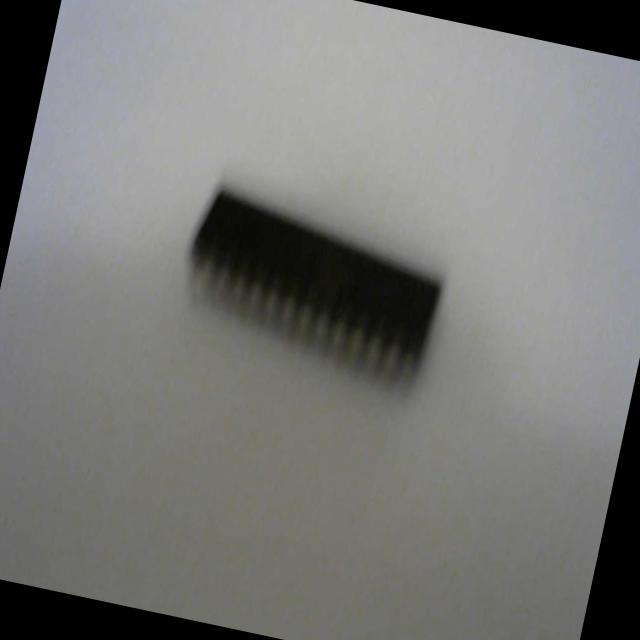atmega: (167, 169, 459, 399)
